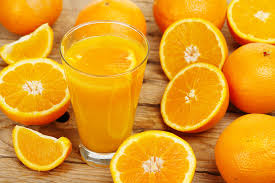orange: (161, 65, 227, 131), (1, 62, 72, 118), (157, 21, 224, 75), (3, 124, 73, 170), (224, 50, 275, 112)
